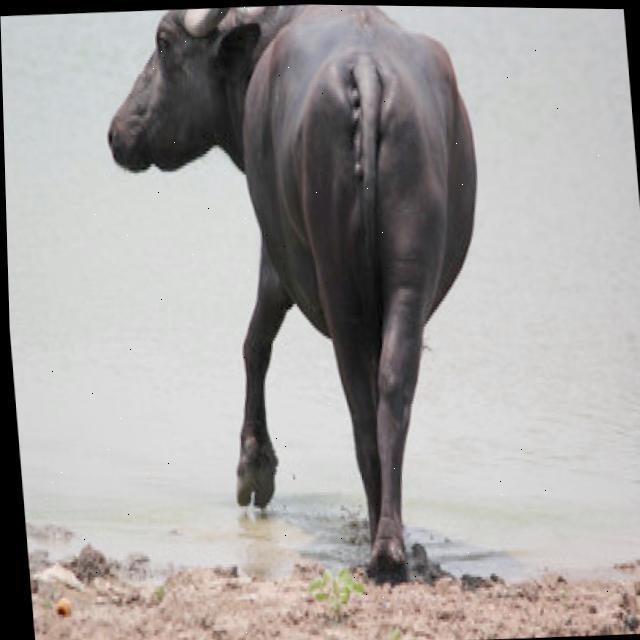Buffalo: (94, 1, 512, 592)
